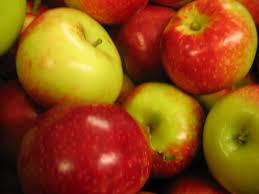apple: (20, 110, 153, 194), (18, 16, 126, 103), (117, 83, 210, 174), (160, 6, 254, 87), (205, 94, 259, 187), (119, 8, 182, 83)
